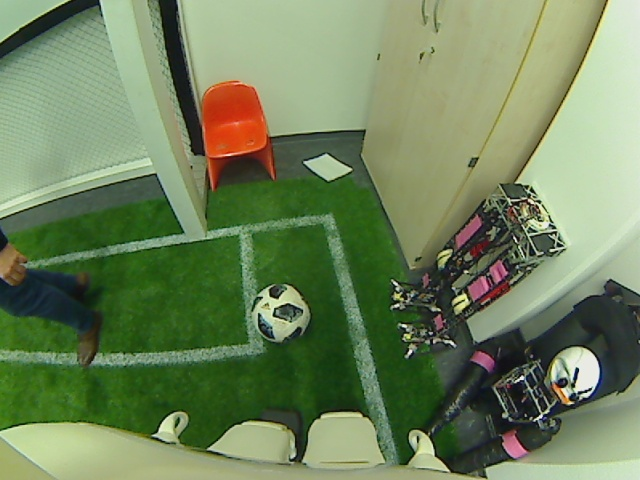ball: (251, 280, 311, 346)
